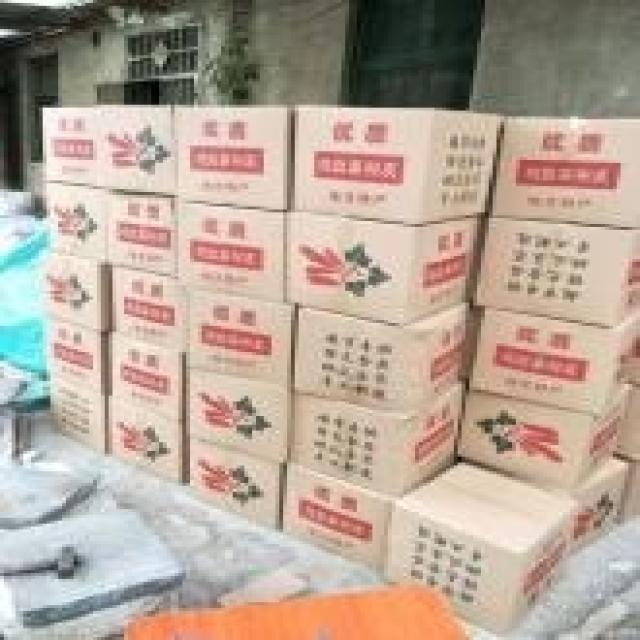box: (384, 463, 578, 631), (287, 108, 504, 224), (283, 212, 485, 326), (295, 303, 485, 416), (291, 378, 465, 497), (450, 381, 628, 495), (469, 215, 640, 326), (489, 113, 640, 230), (469, 308, 636, 410), (283, 463, 400, 579), (171, 105, 295, 212), (175, 201, 291, 305), (190, 288, 295, 387), (186, 436, 287, 532), (190, 372, 291, 463), (105, 262, 182, 358), (97, 105, 175, 198), (105, 332, 186, 419), (105, 393, 182, 480), (105, 192, 178, 279), (35, 250, 112, 329), (566, 457, 628, 553), (47, 183, 105, 262), (47, 381, 109, 454), (43, 320, 105, 393), (43, 108, 101, 186), (617, 384, 640, 460), (617, 460, 640, 524)
